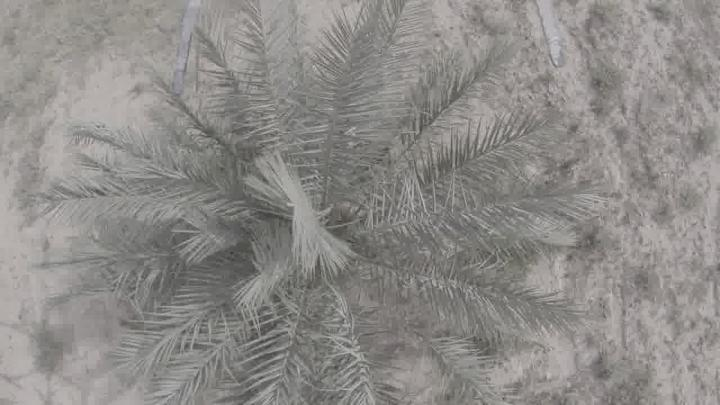Date-Palm-Crown: (190, 85, 472, 360)
